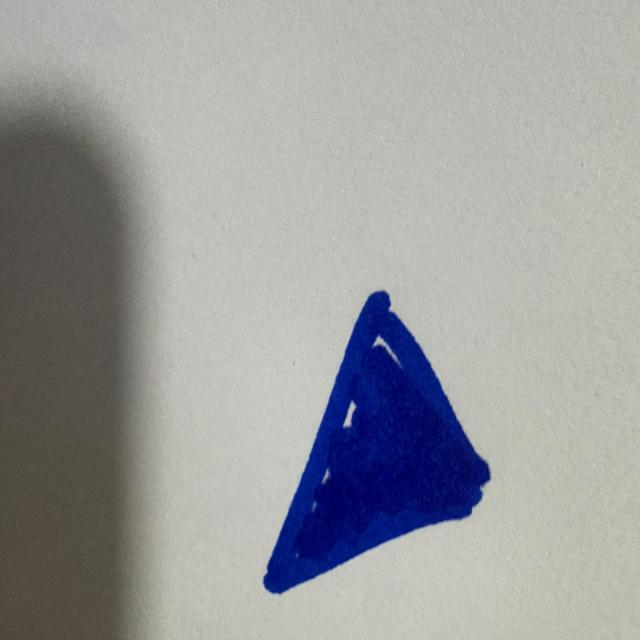Triangle: (264, 292, 490, 593)
